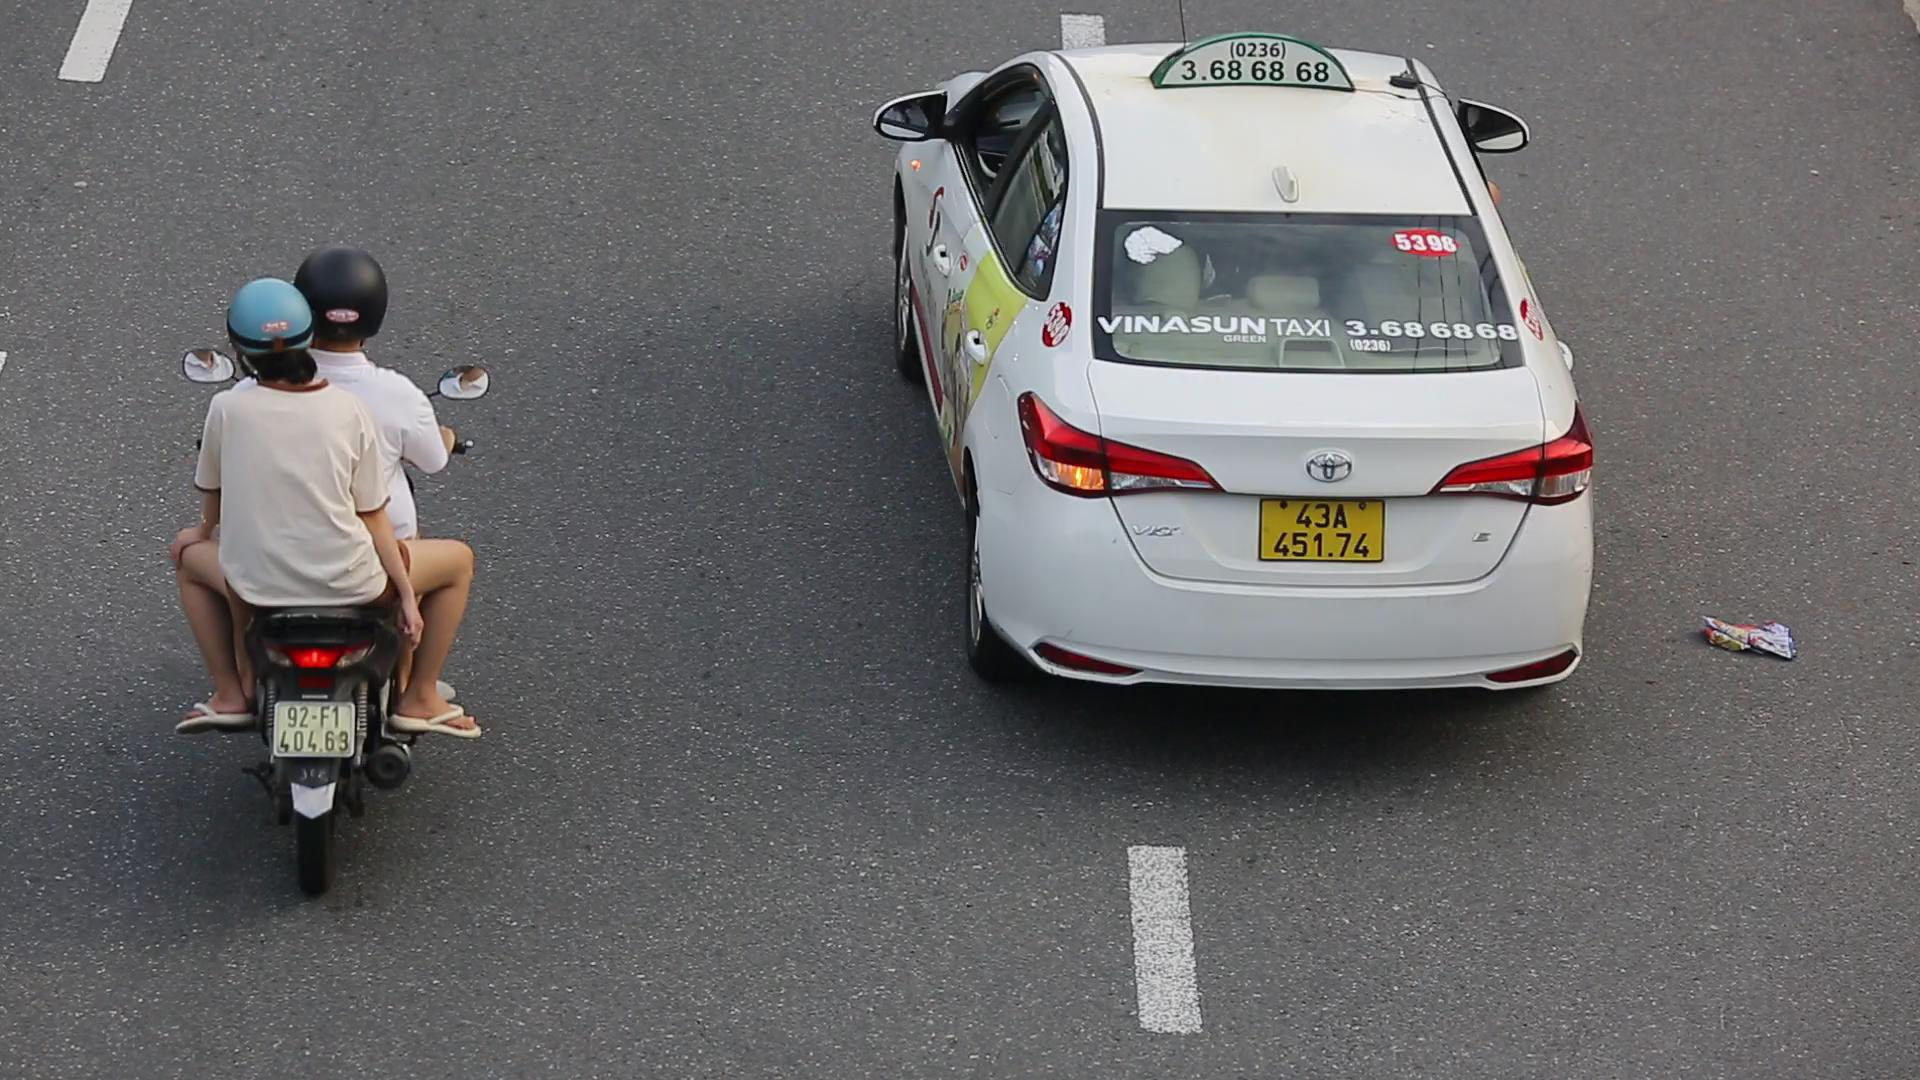motobike: (138, 224, 493, 895)
